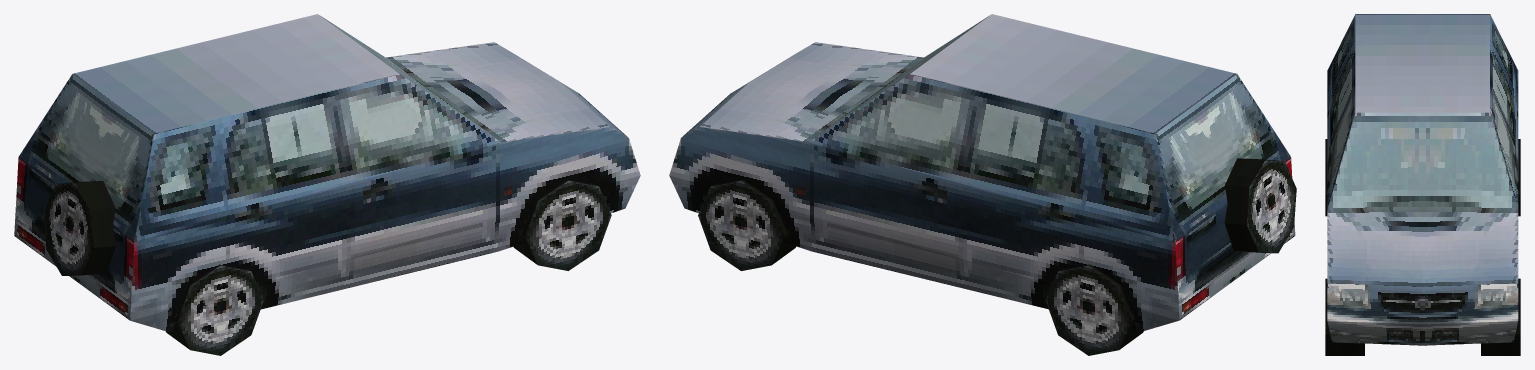
Rendered from suzuki-vitara.glb.
The picture shows the model from 3 angles, left to right: view 1: azimuth 30°, elevation 25°; view 2: azimuth 150°, elevation 25°; view 3: azimuth 270°, elevation 25°; orthographic projection. The views are drawn at different scales.
Visible parts, largest first — view 1: Cube; view 2: Cube; view 3: Cube.
Part boxes in pixels (box(x1,y1,x2,y2)): Cube: box(14, 14, 640, 355); Cube: box(669, 14, 1296, 355); Cube: box(1325, 14, 1520, 355).
Size of the model in its own units: 14.54 by 5.63 by 5.5.
1 material, 1 textured.
